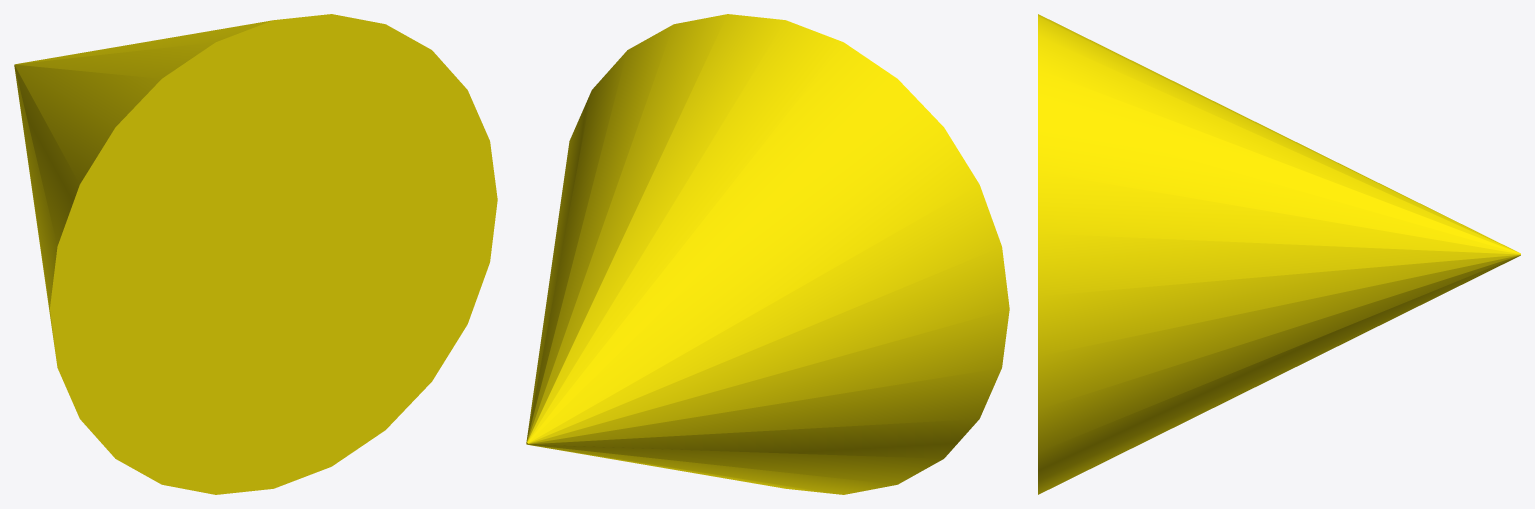
Rendered from vec_150.dae.
3 views of the same model, side by side, from view 1: azimuth 30°, elevation 25°; view 2: azimuth 150°, elevation 25°; view 3: azimuth 270°, elevation 25° (orthographic). The views are drawn at different scales.
Parts seen in each view (by area): view 1: Model; view 2: Model; view 3: Model.
Boxes of the visible parts, <box> form: Model: <box>14,14,497,494</box>; Model: <box>526,14,1009,494</box>; Model: <box>1038,14,1520,494</box>.
Bounding box in the file's own units: 1 × 1 × 1.
